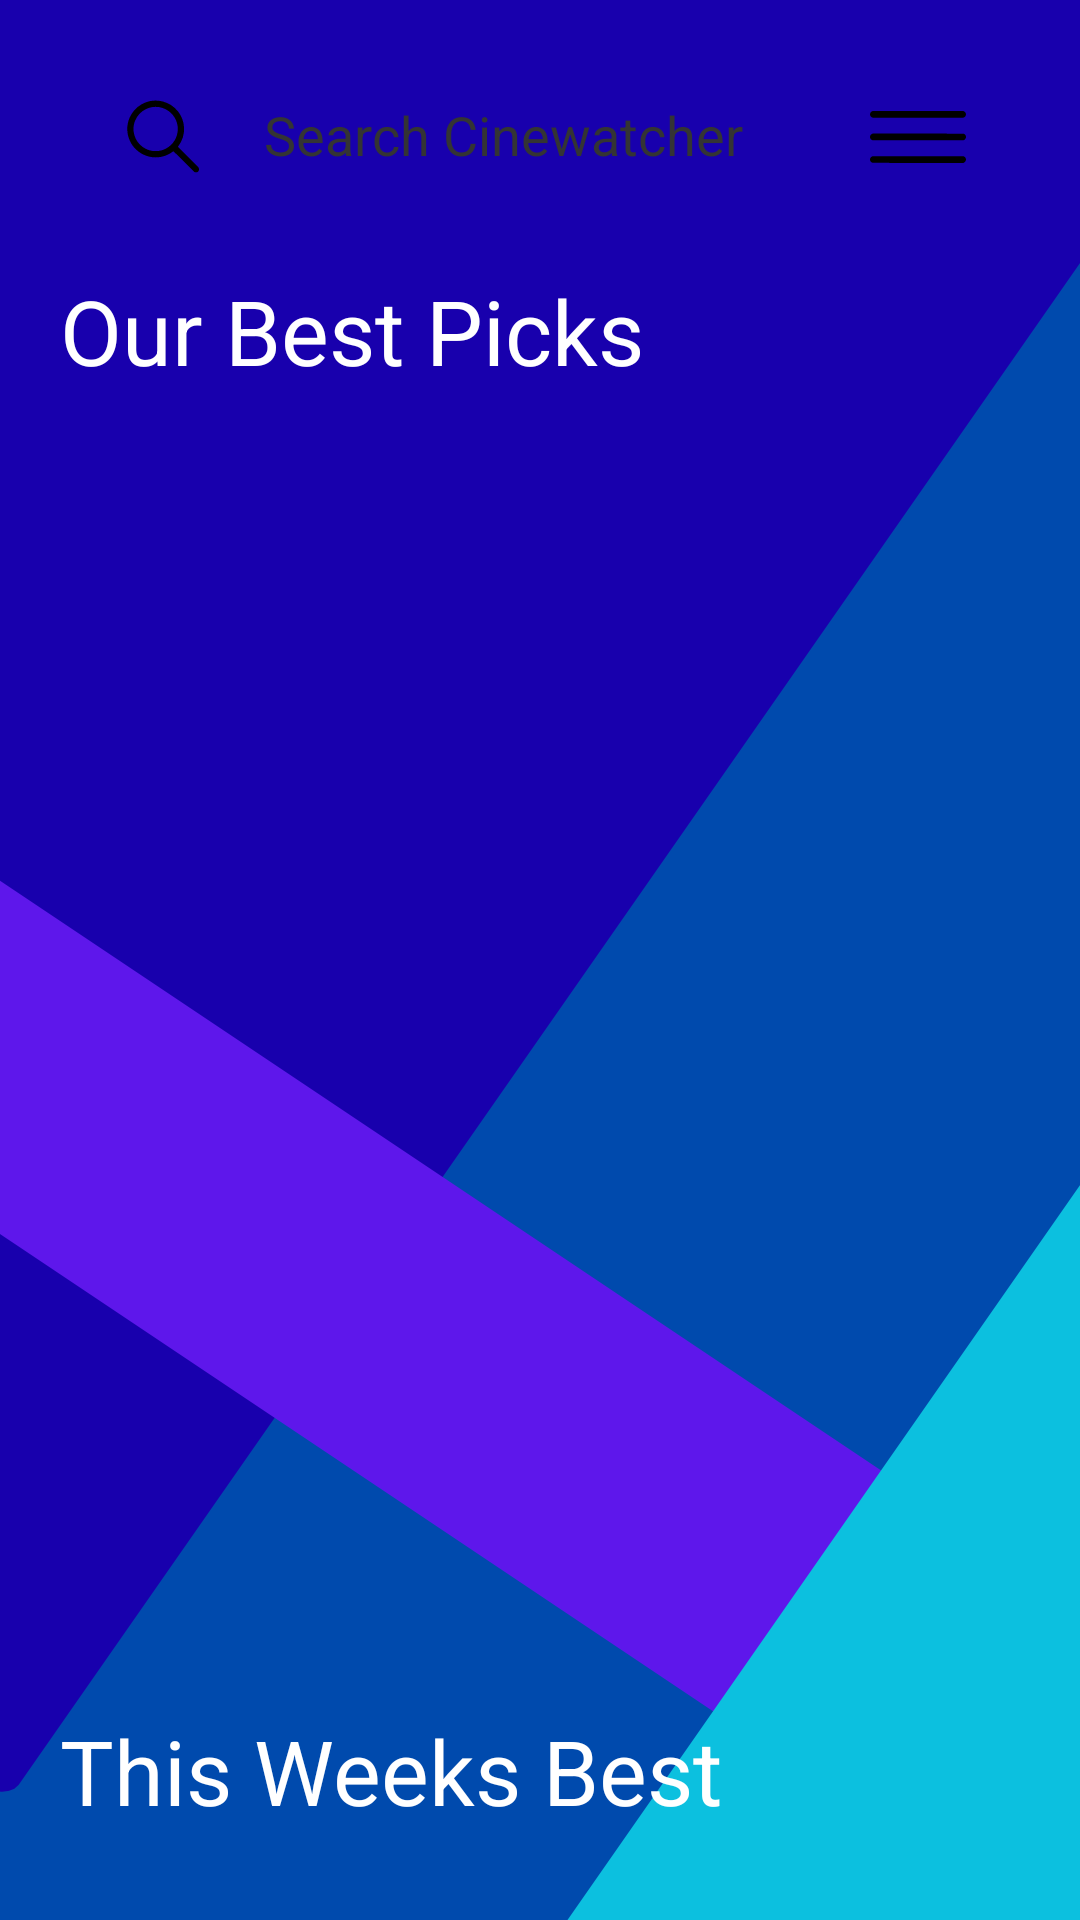

Icons on this 1080 x 1920 Android screen, each with its box as [x1=x1, y1=y1, x2=x2, y2=y2]:
Options: [x1=870, y1=111, x2=966, y2=163]
